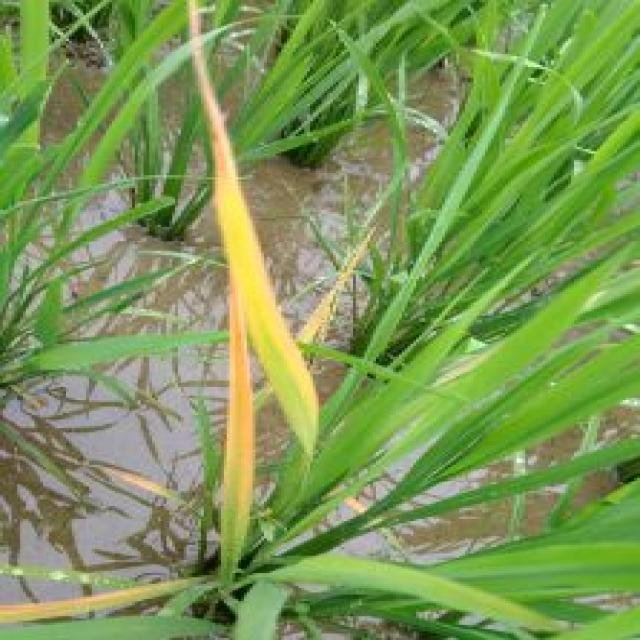Tungro: (165, 82, 322, 621)
